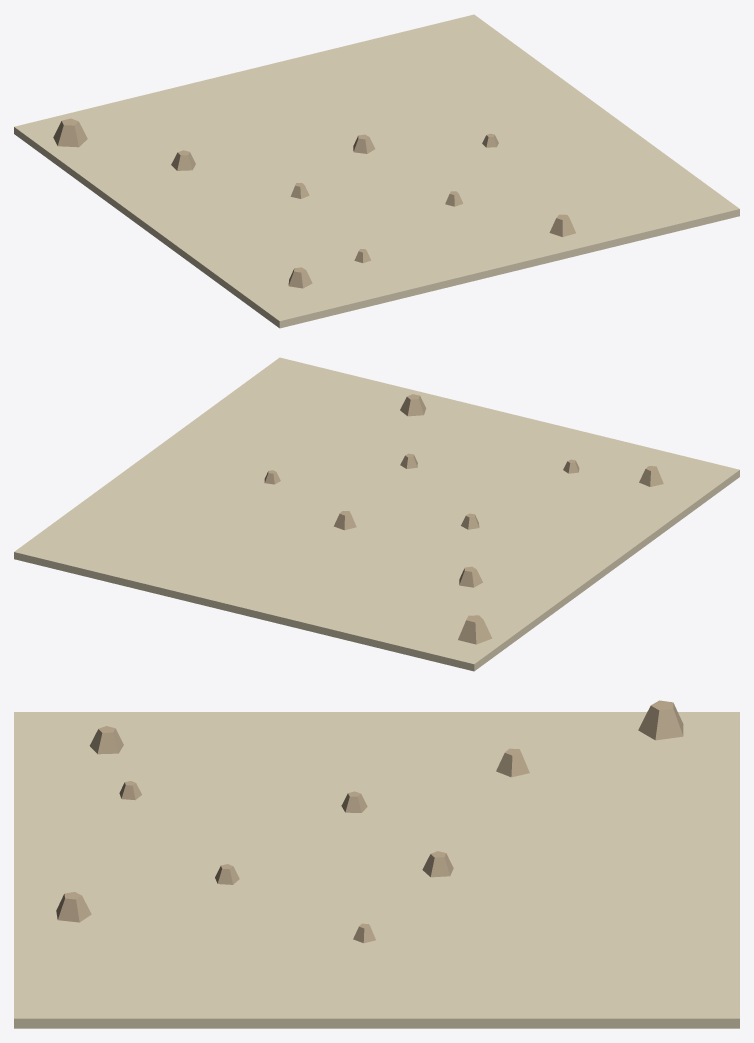
Rendered from radio-telescope-array-and-field-station-ground-module--45f5b439__37646.glb.
The picture shows the model from 3 angles, top to bottom: view 1: azimuth 30°, elevation 25°; view 2: azimuth 150°, elevation 25°; view 3: azimuth 270°, elevation 25°; orthographic projection. The views are drawn at different scales.
Parts seen in each view (by area): view 1: ground-module-pale; view 2: ground-module-pale; view 3: ground-module-pale.
Part boxes in pixels (box(x1,y1,x2,y2)): ground-module-pale: box(14, 14, 739, 328); ground-module-pale: box(14, 357, 739, 671); ground-module-pale: box(14, 700, 739, 1028).
Size of the model in its own units: 8 by 0.4237 by 8.
